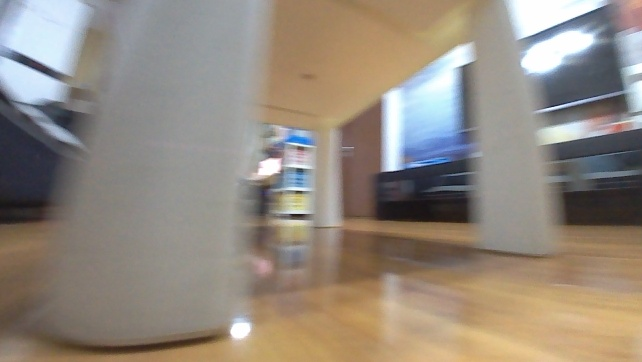TV_stand: (369, 123, 641, 228)
